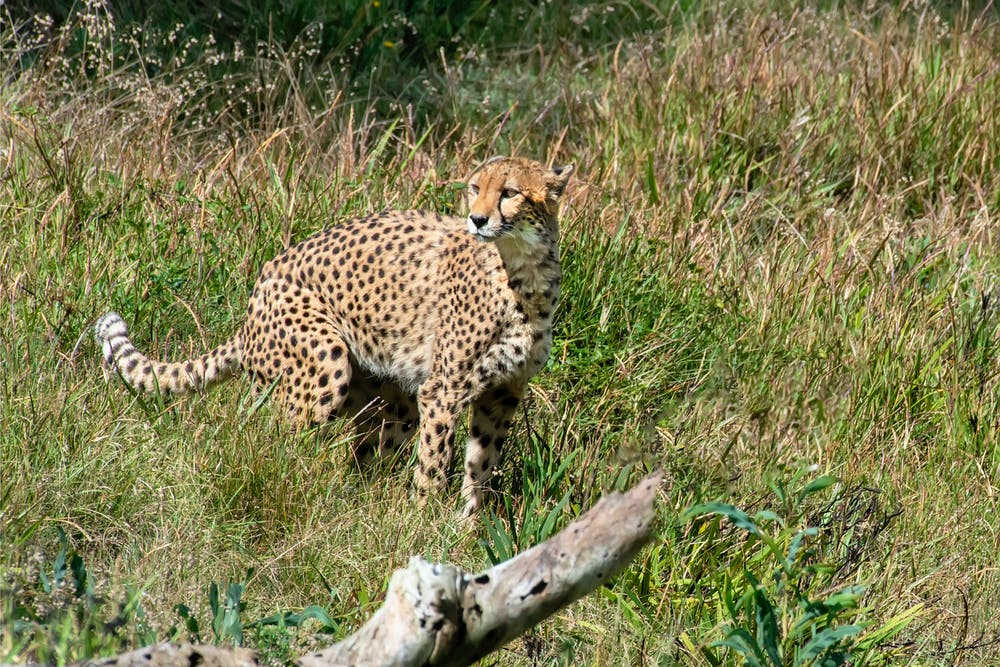cheetah: (450, 148, 578, 260)
